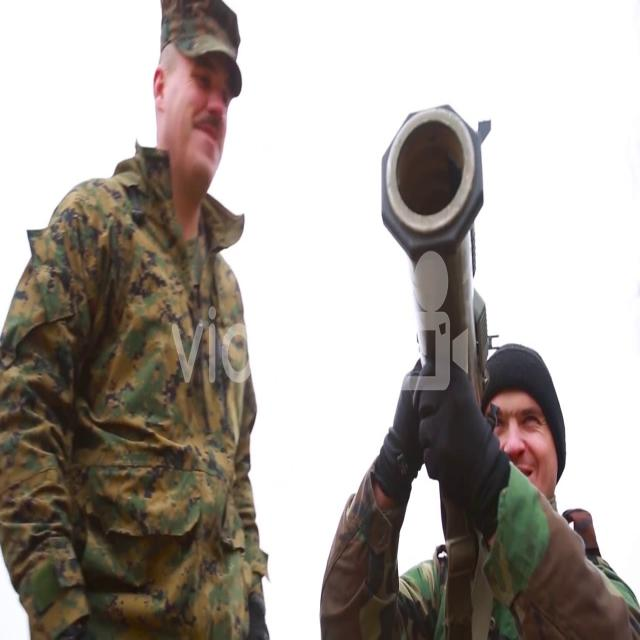bazooka: (375, 81, 491, 540)
